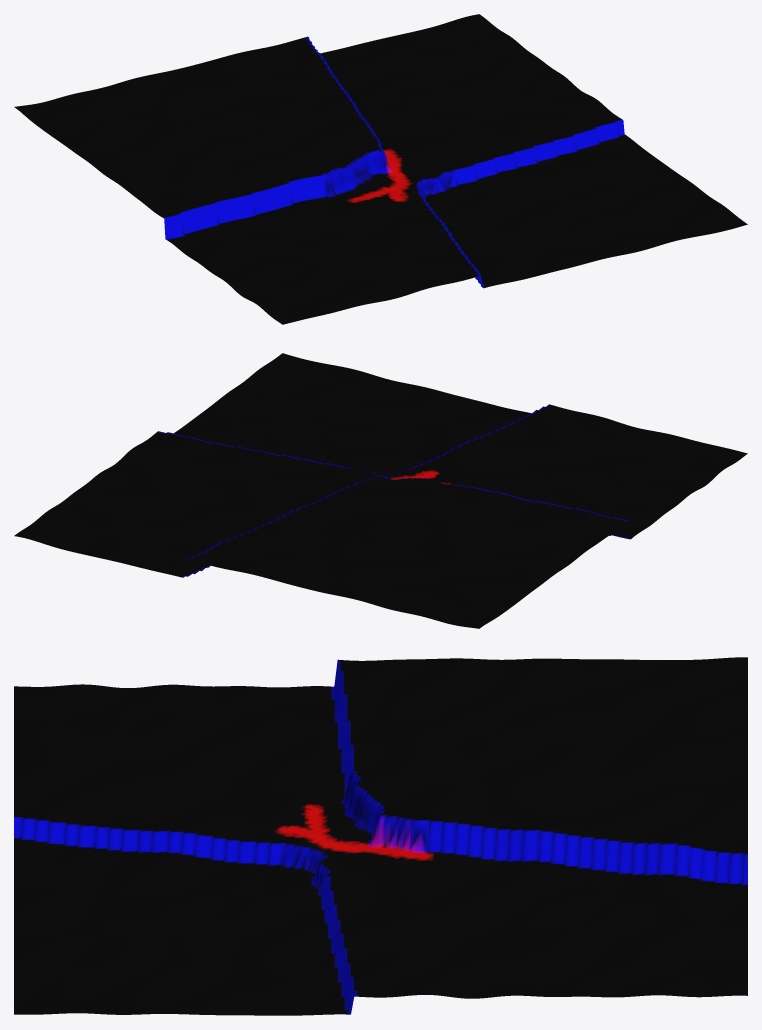
The model's file is terrain.glb.
The picture shows the model from 3 angles, top to bottom: view 1: azimuth 30°, elevation 25°; view 2: azimuth 150°, elevation 25°; view 3: azimuth 270°, elevation 25°; orthographic projection. The views are drawn at different scales.
Parts seen in each view (by area): view 1: terrain; view 2: terrain; view 3: terrain.
Boxes of the visible parts, x1,y1,x2,y2 form: terrain: (14,14,747,324); terrain: (14,353,747,628); terrain: (14,657,747,1015).
Size of the model in its own units: 110 by 8.29 by 110.
